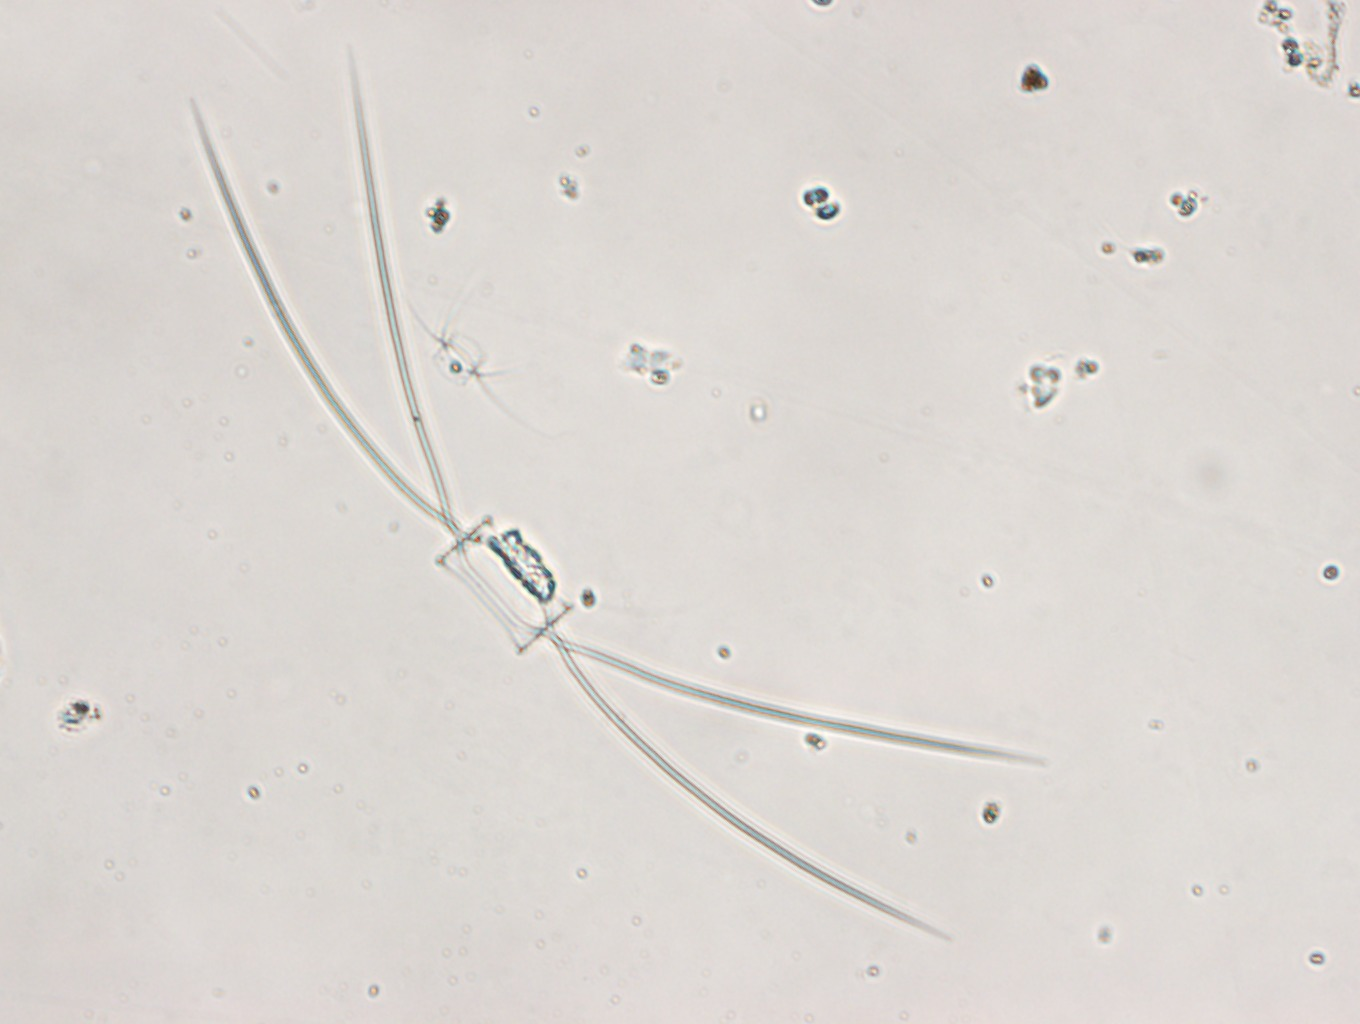chaetoceros: (189, 47, 1036, 940)
